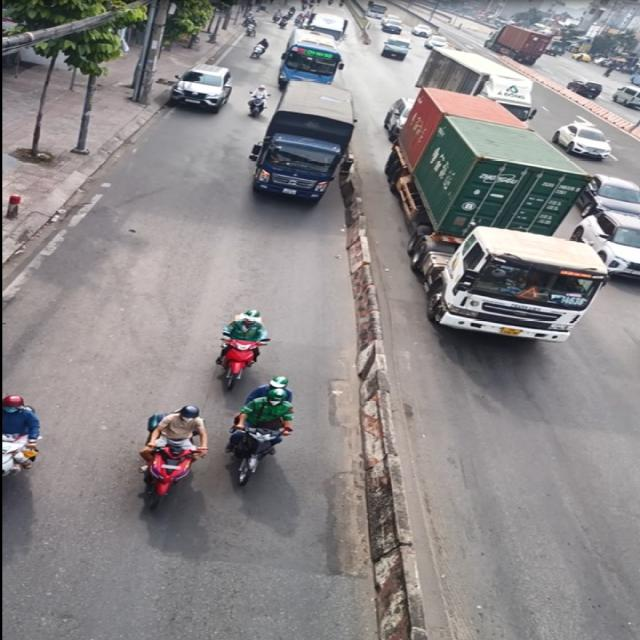car: (172, 64, 235, 114)
motor: (224, 376, 321, 501), (119, 404, 210, 505), (213, 307, 272, 391)
truck: (391, 84, 610, 353), (256, 78, 360, 214)
